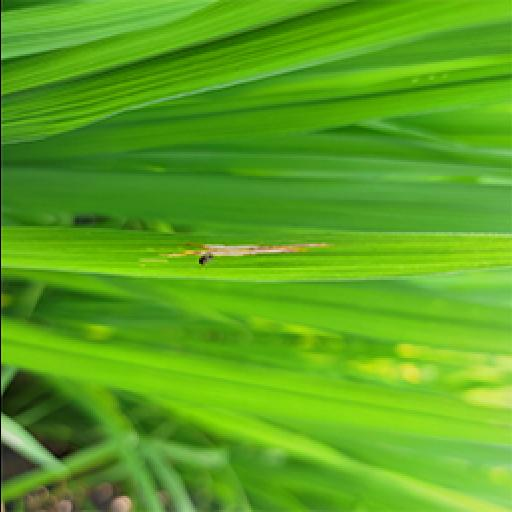Bacterial Leaf Blight: (144, 234, 342, 276)
